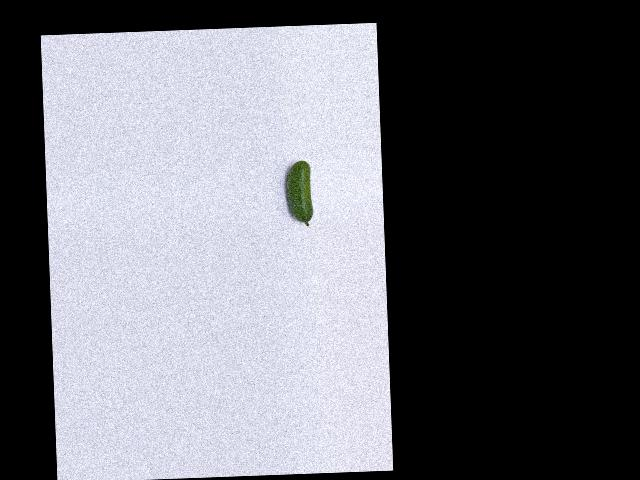cucumber: (285, 159, 313, 226)
